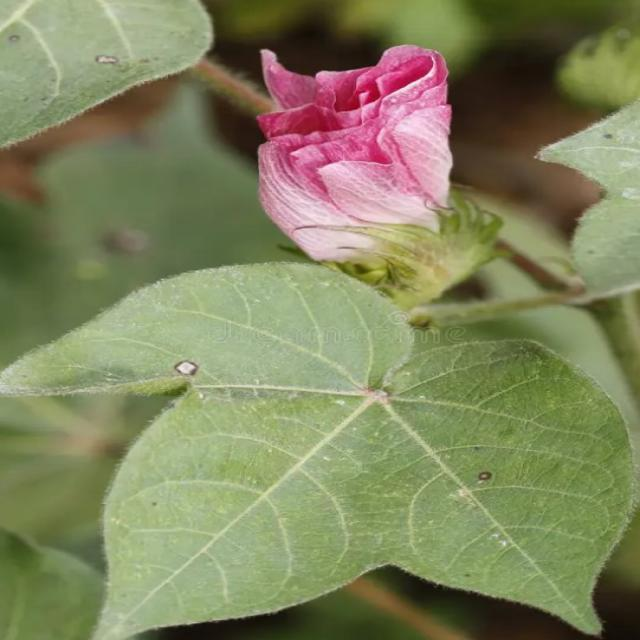Cotton Blossom: (239, 39, 496, 292)
